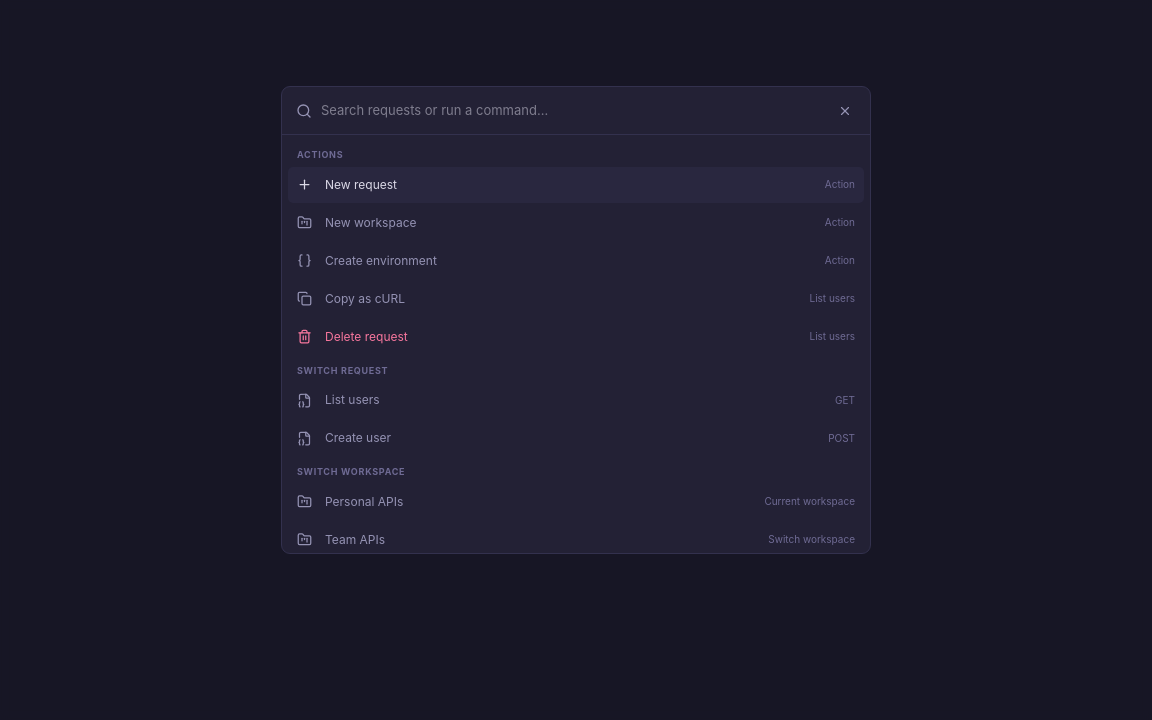
Test: CommandDialog › shows actions, requests, and workspaces and filters across them
Step 1. Type "team" into the field with placeholder "Search requests or run a command…" → x=572, y=111, box [321,101,822,121]
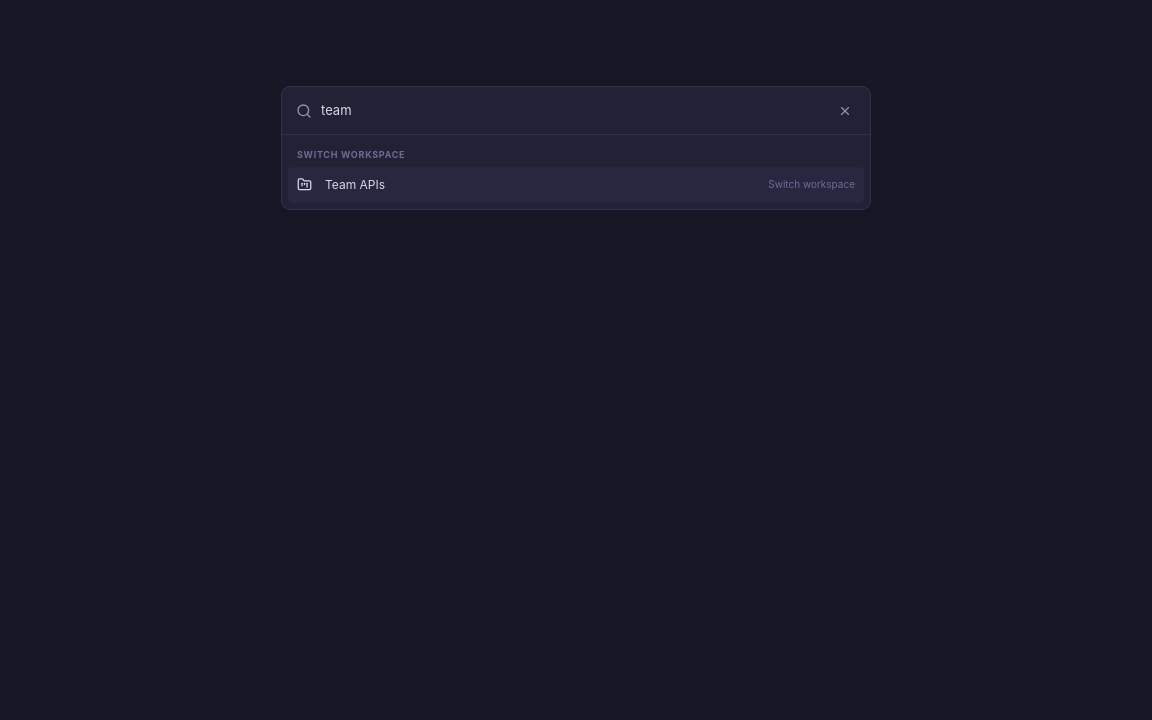
Check: the text "Team APIs" is shown, box [325,177,385,192]
Check: the text "Create user" is gone
